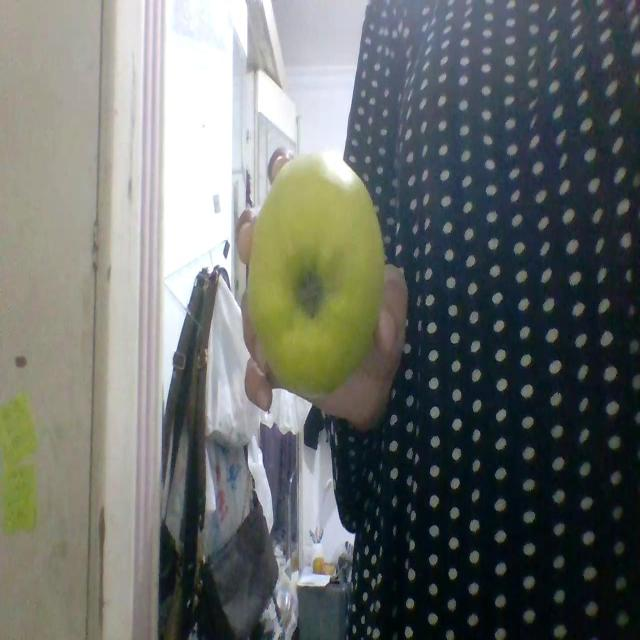Rotten Apple: (248, 153, 384, 396)
